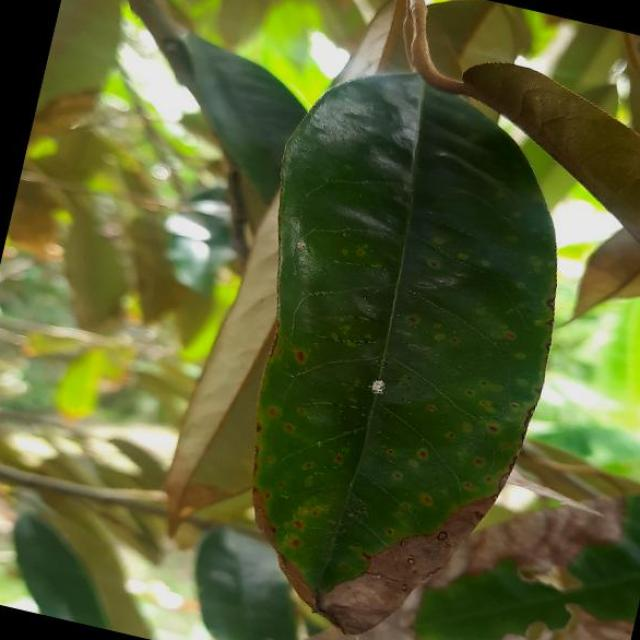Leaf Spot: (172, 42, 610, 640)
